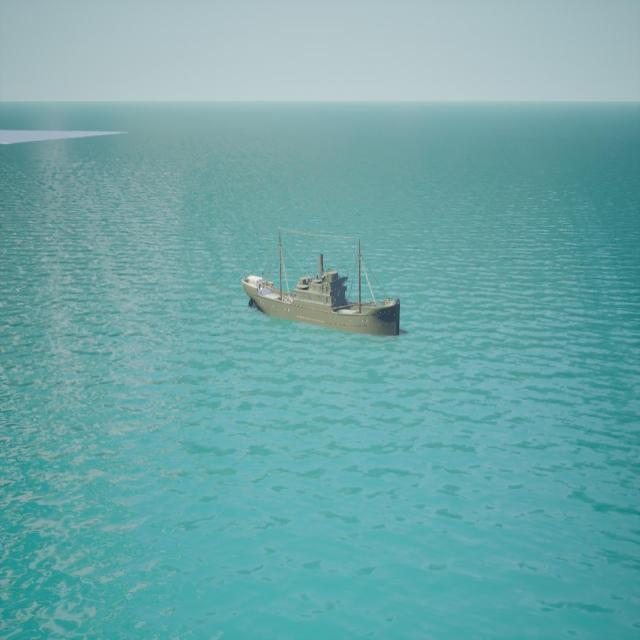fishing ship: (244, 233, 402, 340)
